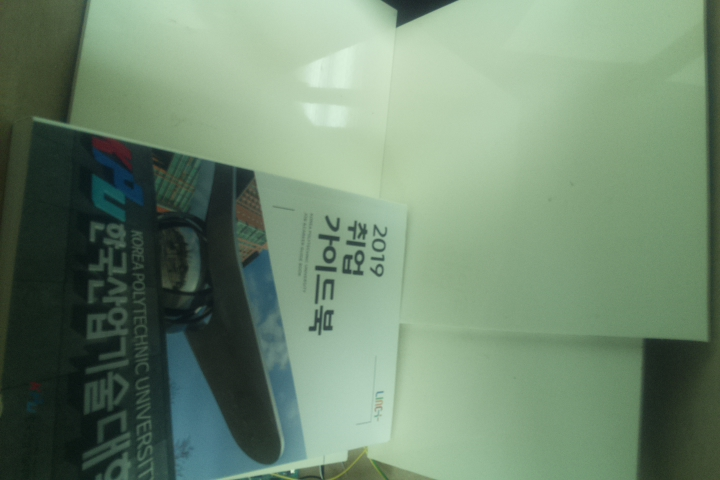book: (1, 114, 411, 480)
